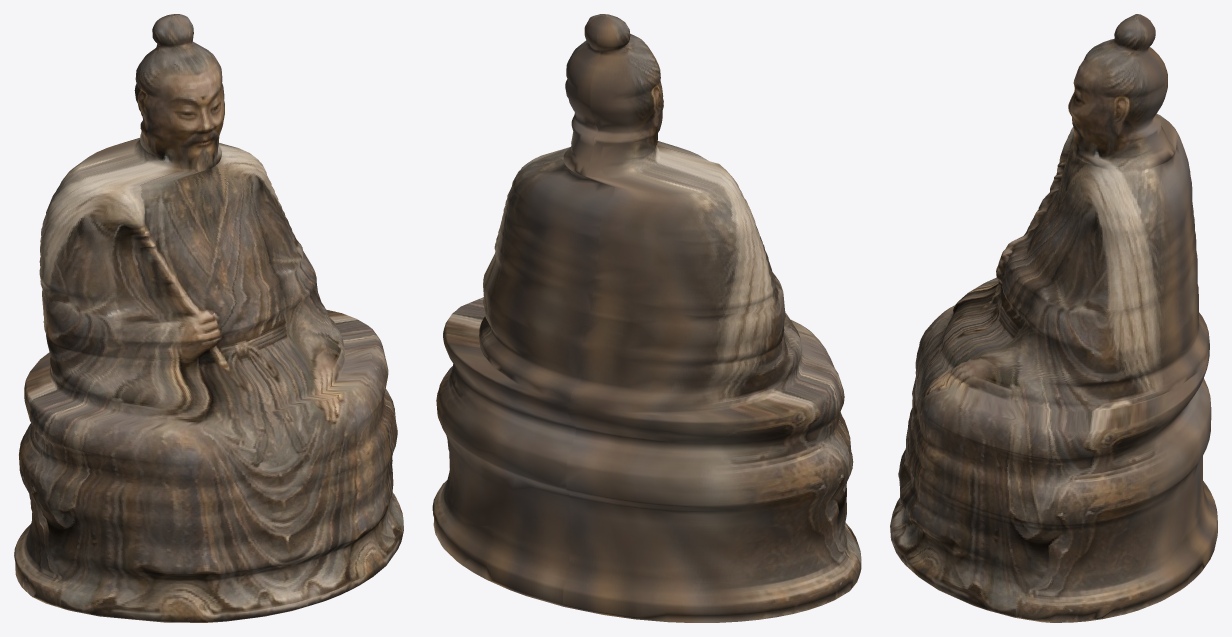
The model's file is daoist.glb.
3 views of the same model, side by side, from view 1: azimuth 30°, elevation 25°; view 2: azimuth 150°, elevation 25°; view 3: azimuth 270°, elevation 25° (orthographic). The views are drawn at different scales.
Parts seen in each view (by area): view 1: daoist; view 2: daoist; view 3: daoist.
Boxes of the visible parts, box(x1,y1,x2,y2) form: daoist: box(14, 14, 403, 622); daoist: box(432, 14, 861, 622); daoist: box(890, 14, 1217, 622).
Bounding box in the file's own units: 0.7411 × 1 × 0.573.
Materials: 1 (1 with a texture image).
